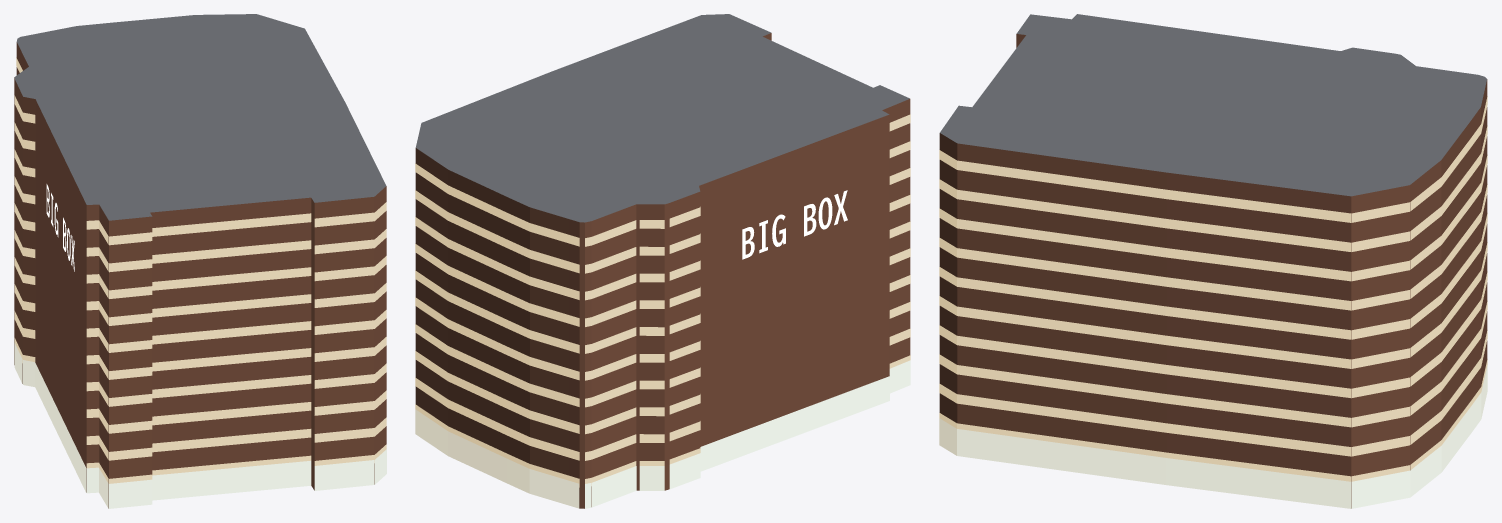
The model's file is bigbox.glb.
3 views of the same model, side by side, from view 1: azimuth 30°, elevation 25°; view 2: azimuth 150°, elevation 25°; view 3: azimuth 270°, elevation 25° (orthographic). The views are drawn at different scales.
Visible parts, largest first — view 1: FBB_Building; view 2: FBB_Building; view 3: FBB_Building.
Part boxes in pixels (x1,y1,x2,y2): FBB_Building: (14,14,386,508); FBB_Building: (415,14,910,508); FBB_Building: (939,14,1487,508).
Bounding box in the file's own units: 57.7 × 46 × 73.17.
